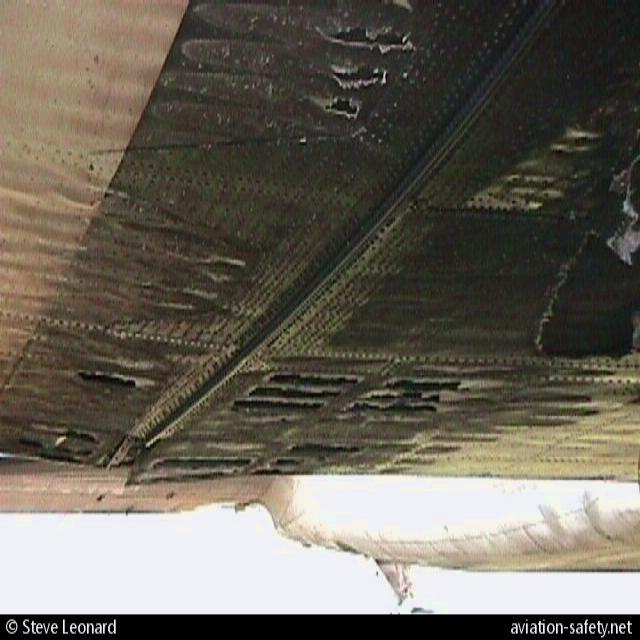crack: (299, 15, 416, 125)
